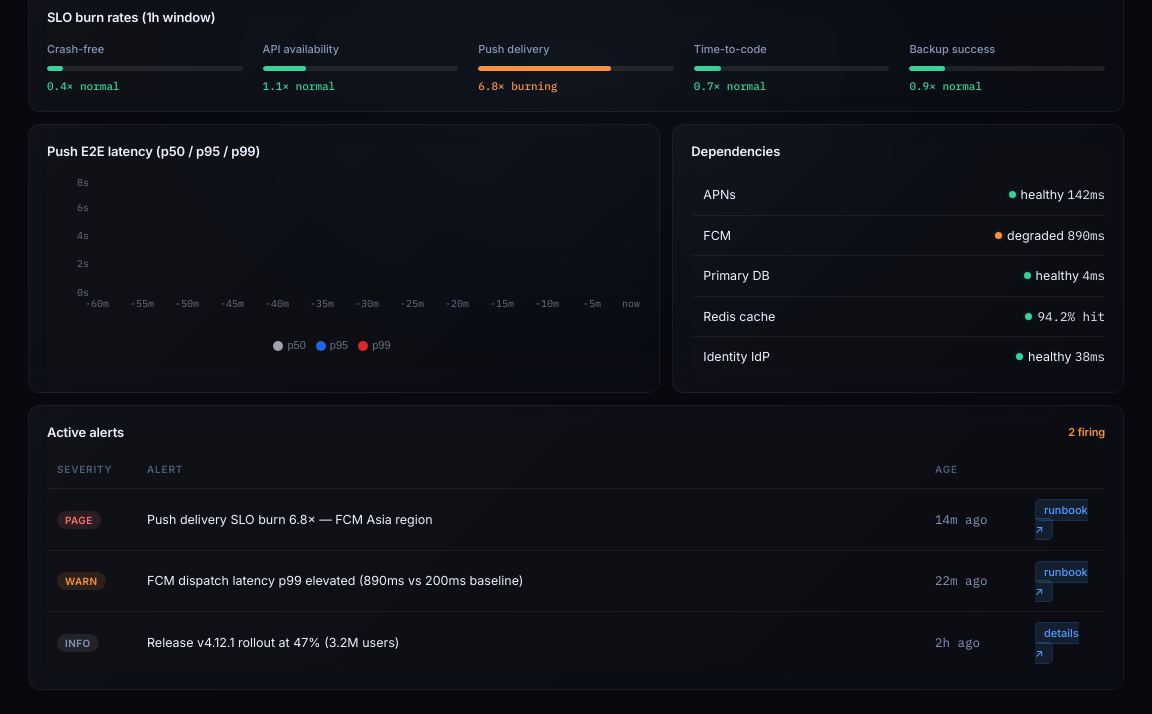
Test case: SREDashboard — severity badge filter › toggles filter off when same badge is clicked again
This screenshot has width=1152, height=714.
(page scrolled)
What coordinates should you click on to do the following:
click the button "warn"
I would click on:
 (81, 581)
Its box is [57,572,106,590].
(page scrolled)
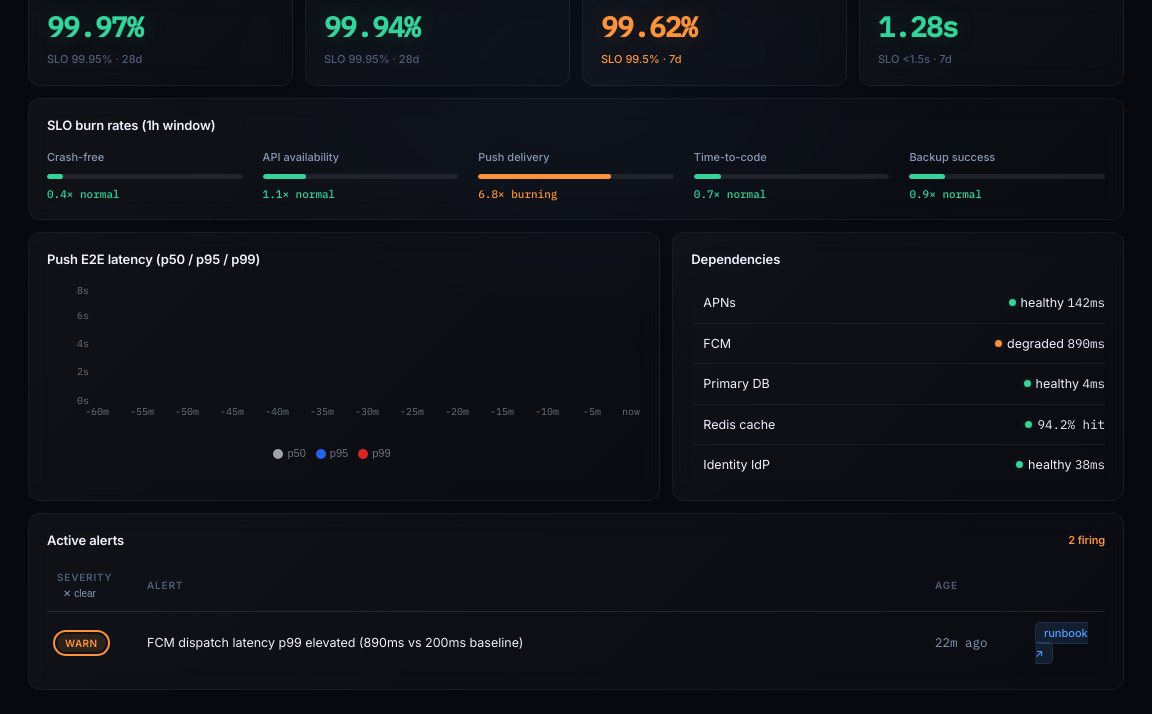
What coordinates should you click on to do the following:
click the button "warn"
I would click on:
 (81, 643)
Its box is [57,634,106,652].
(page scrolled)
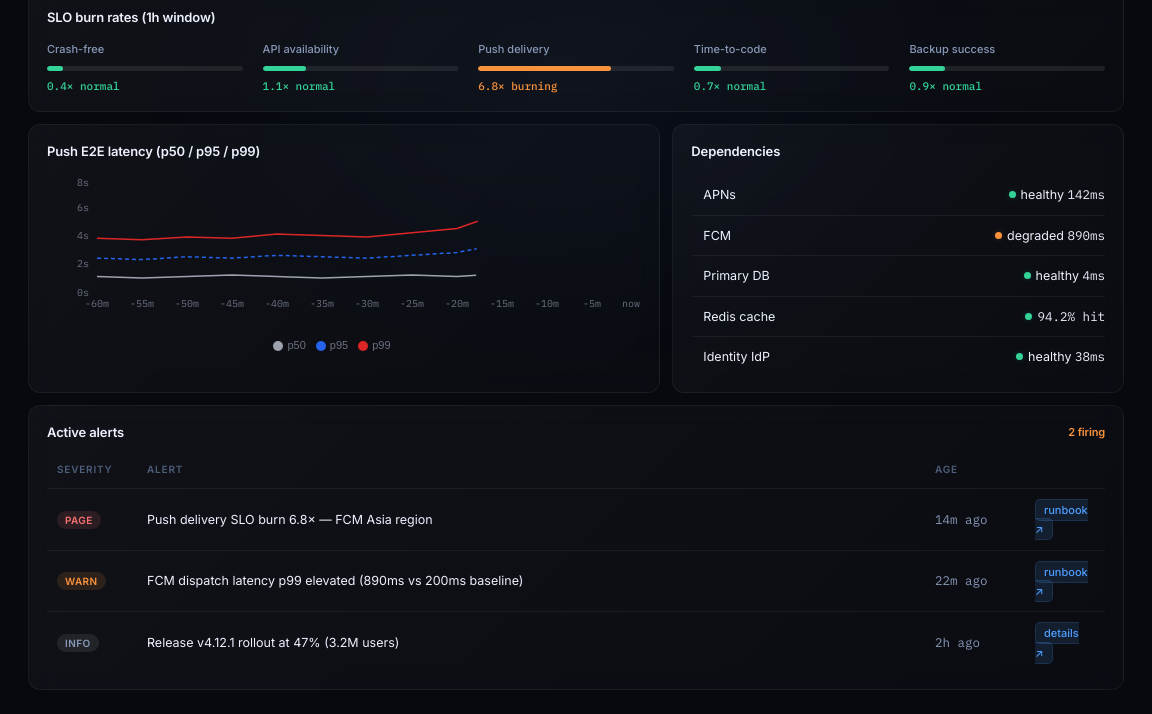
Expected: the text "Push delivery SLO burn 6.8× — FCM Asia region" is shown, [137,488,925,550]
Expected: the text "Release v4.12.1 rollout at 47% (3.2M users)" is shown, [137,612,925,673]
